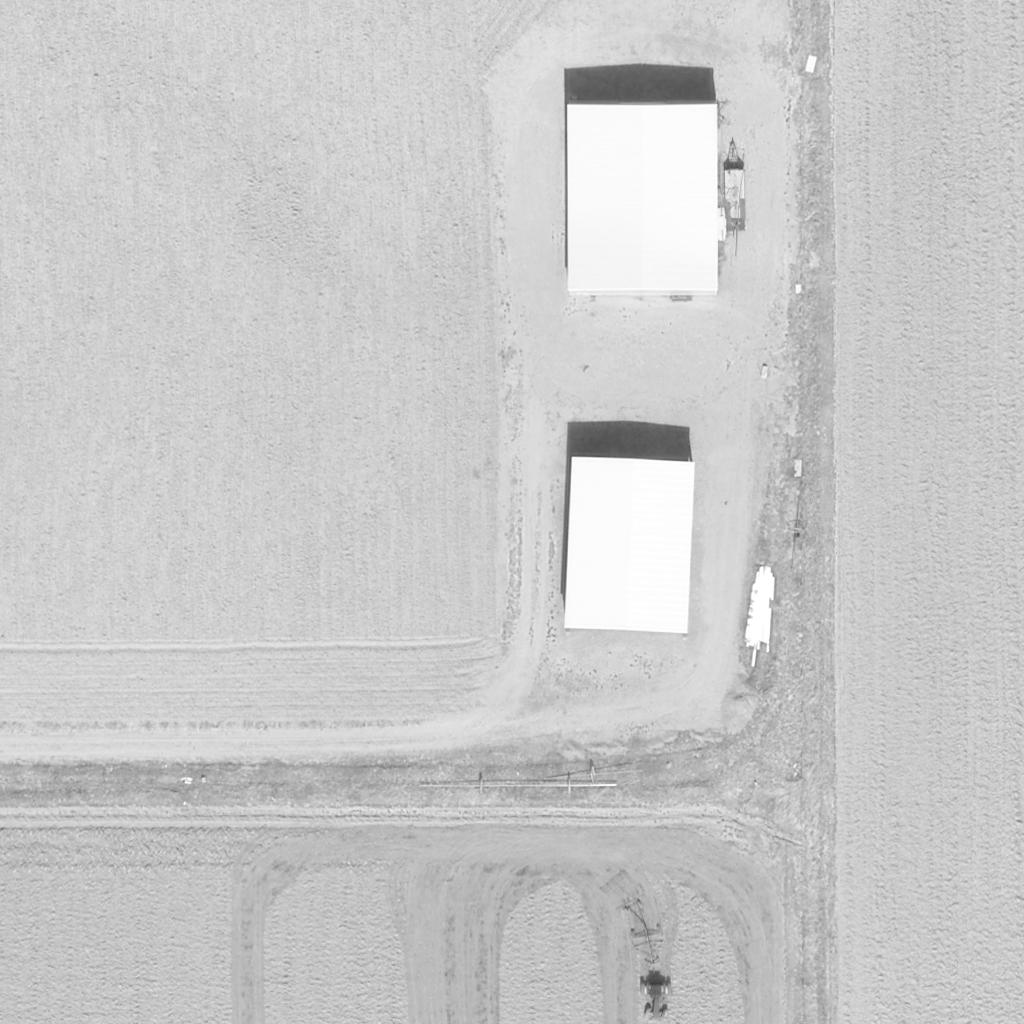vehicle: (637, 978, 673, 1024)
